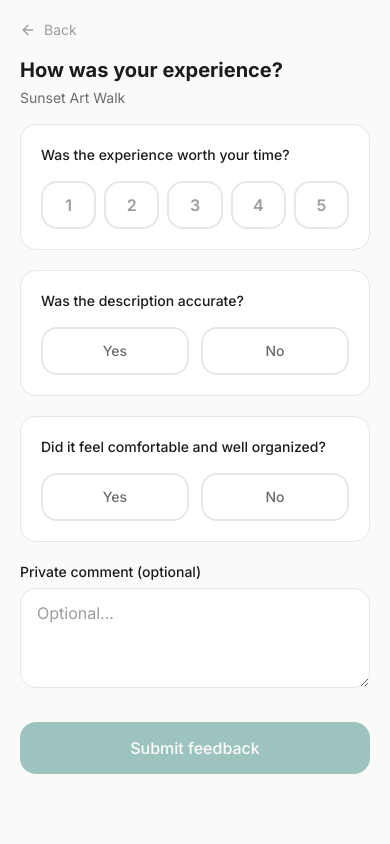
Test case: FeedbackPage › renders correctly and allows submitting feedback
Check: the text "Sunset Art Walk" is shown, box left=20, top=89, right=125, bottom=106
// Select Rating
Click the button named "5/5" at (321, 205), box left=294, top=181, right=349, bottom=229
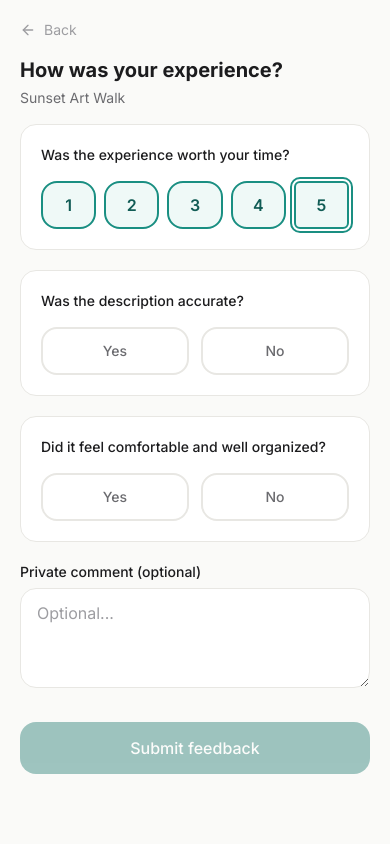
// Select Yes/No
Click the button "Yes" below "Was the description accurate?" at (115, 351), box left=41, top=327, right=189, bottom=375
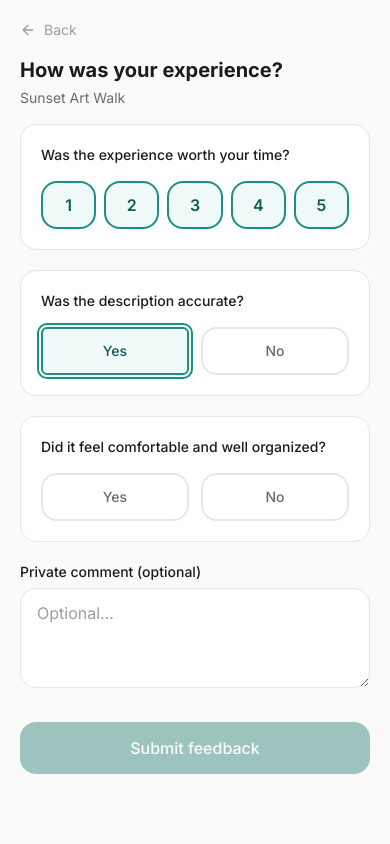
Click the 2nd button "Yes" at (115, 497), box left=41, top=473, right=189, bottom=521
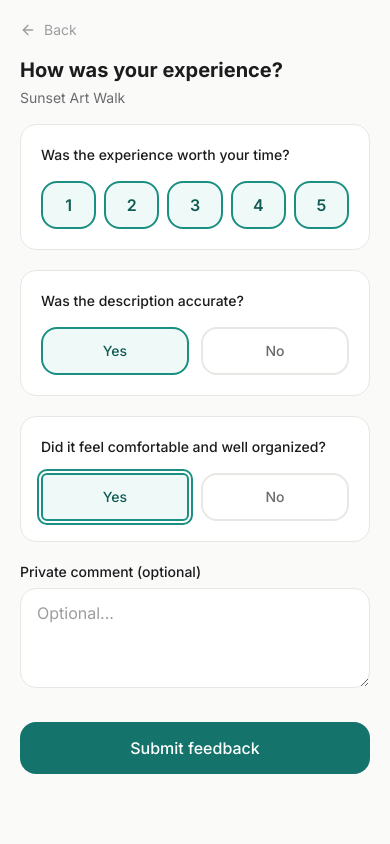
// Type comment
Type "Great!" into the text box with placeholder "Optional..." at (195, 638), box left=20, top=588, right=370, bottom=688
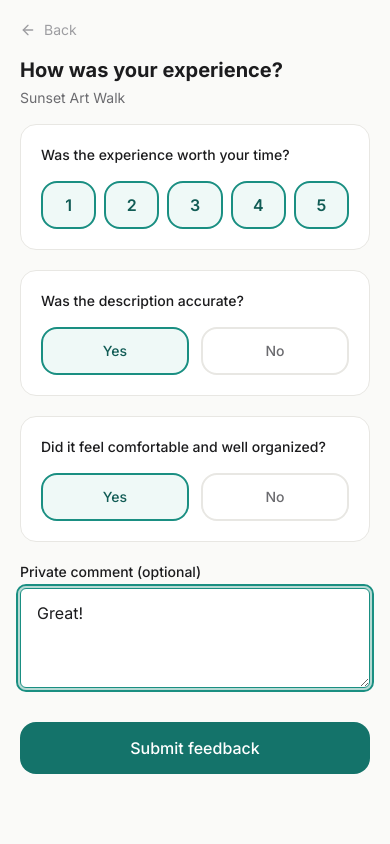
Click the button "Submit feedback" at (195, 748), box left=20, top=722, right=370, bottom=774
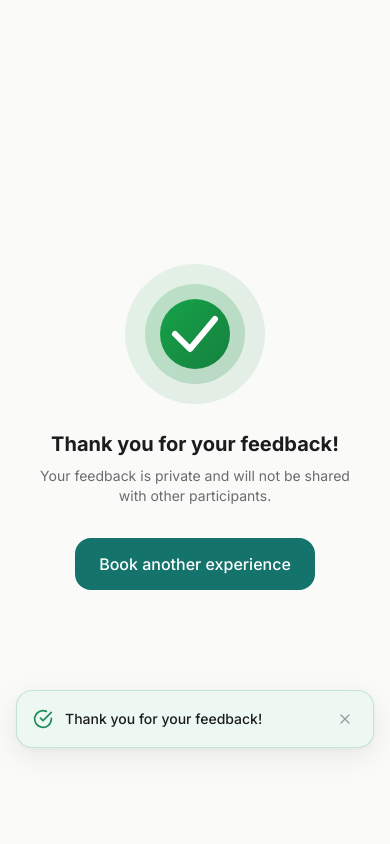
Check: the heading "Thank you for your feedback!" is shown, box left=51, top=430, right=339, bottom=458
